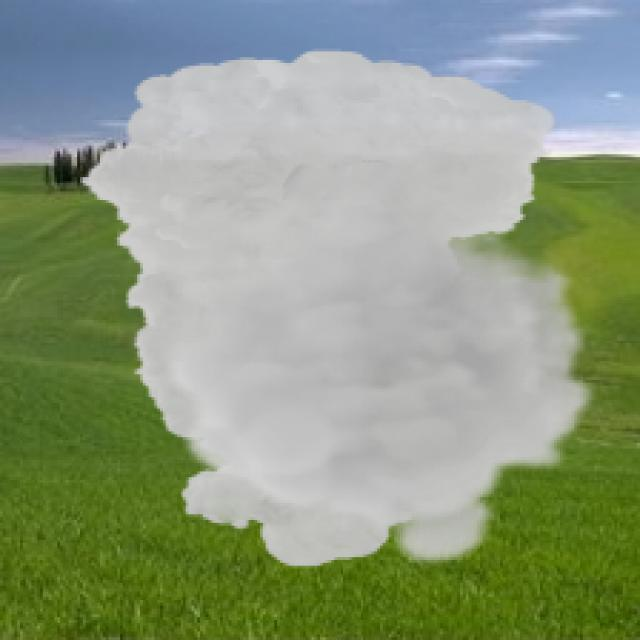Smoke: (77, 49, 597, 568)
